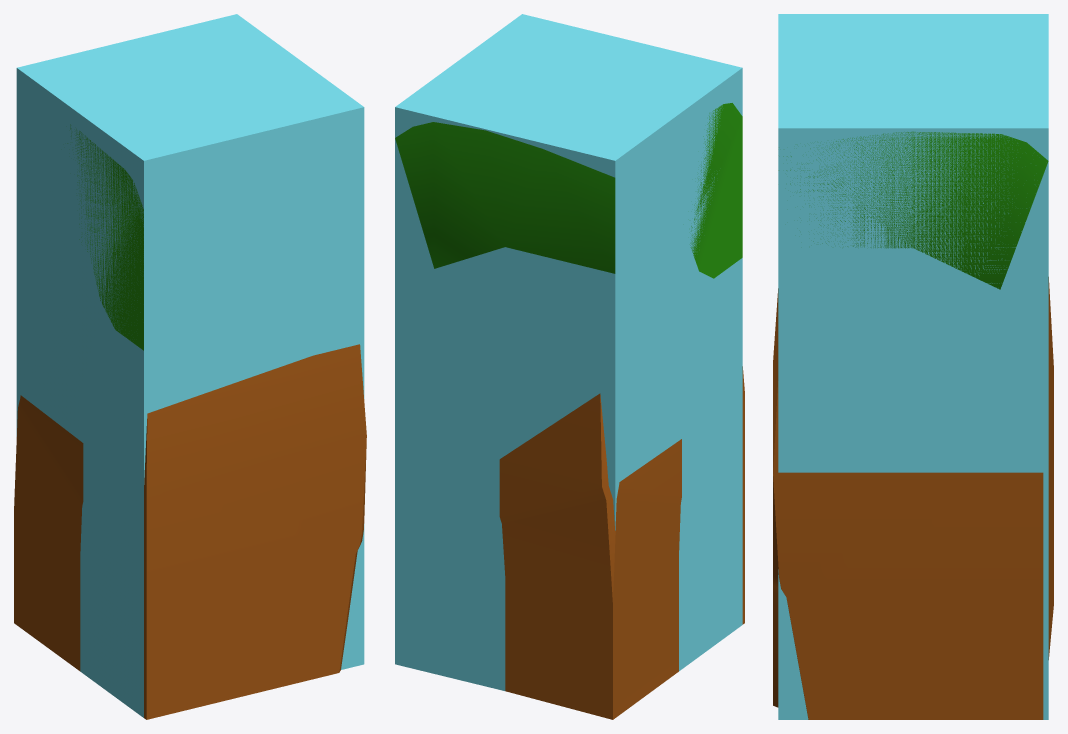
Rendered from PBOX1_Grass_02.FBX.
The picture shows the model from 3 angles, left to right: view 1: azimuth 30°, elevation 25°; view 2: azimuth 150°, elevation 25°; view 3: azimuth 270°, elevation 25°; orthographic projection. The views are drawn at different scales.
Parts seen in each view (by area): view 1: PBOX1_Grass_02, PBOX1_SUB_TAB_MUD_01, PBOX1_SUB_Grass_02; view 2: PBOX1_Grass_02, PBOX1_SUB_TAB_MUD_01, PBOX1_SUB_Grass_02; view 3: PBOX1_Grass_02, PBOX1_SUB_TAB_MUD_01, PBOX1_SUB_Grass_02.
Part boxes in pixels (box(x1,y1,x2,y2)): PBOX1_Grass_02: box(16, 14, 364, 717); PBOX1_SUB_TAB_MUD_01: box(14, 344, 366, 719); PBOX1_SUB_Grass_02: box(67, 124, 143, 350); PBOX1_Grass_02: box(395, 14, 742, 690); PBOX1_SUB_TAB_MUD_01: box(499, 366, 744, 719); PBOX1_SUB_Grass_02: box(395, 103, 742, 278); PBOX1_Grass_02: box(778, 14, 1048, 719); PBOX1_SUB_TAB_MUD_01: box(773, 277, 1053, 719); PBOX1_SUB_Grass_02: box(778, 131, 1048, 289).
Size of the model in its own units: 6.01 by 14.5 by 6.24.
